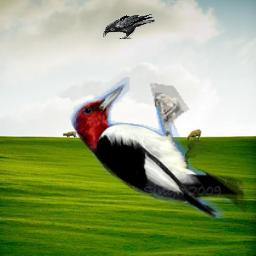Crow: (103, 14, 155, 39)
Woodpecker: (53, 77, 253, 227)
